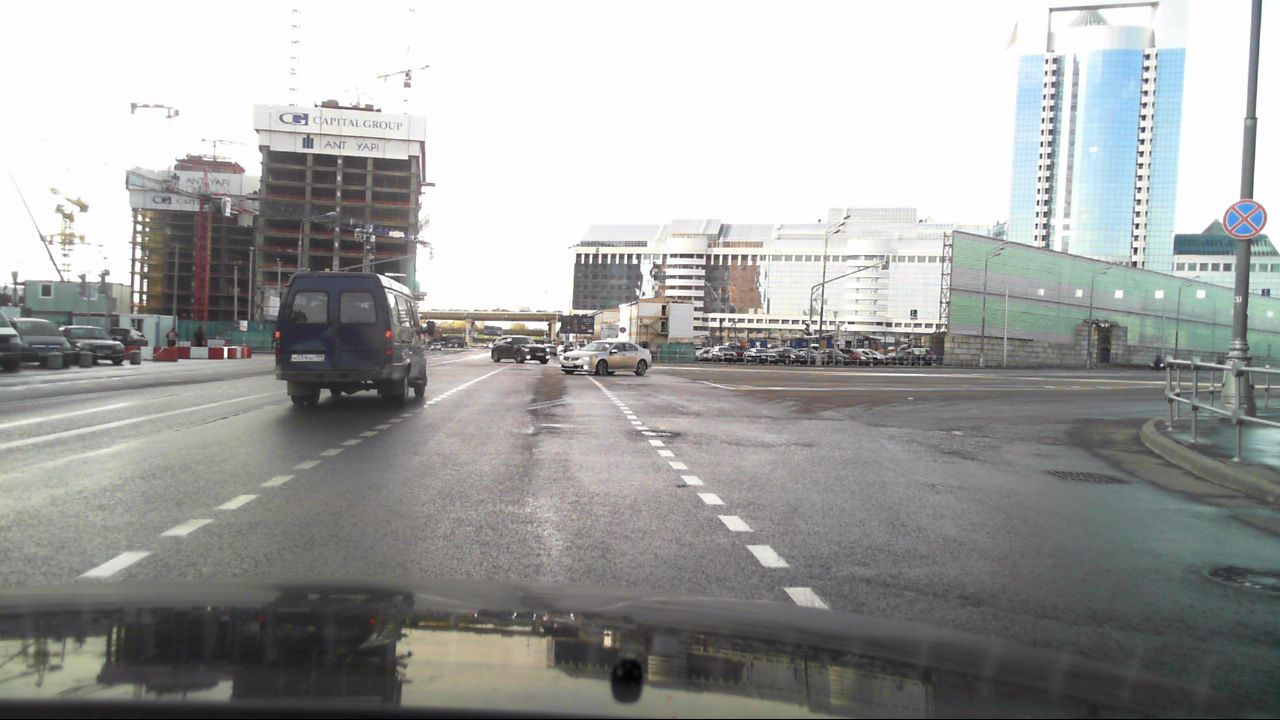No Parking: (1222, 199, 1268, 240)
